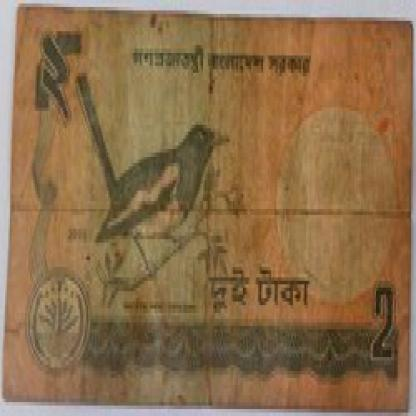two taka: (37, 28, 73, 128), (368, 281, 396, 385)
